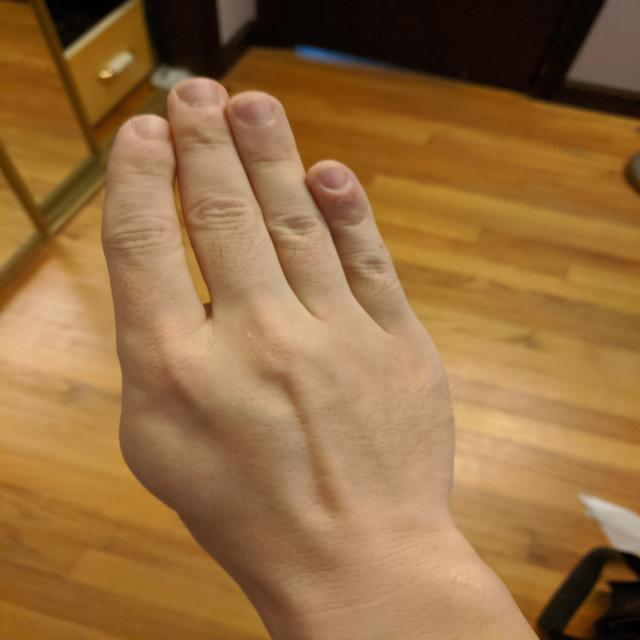B: (85, 70, 463, 600)
